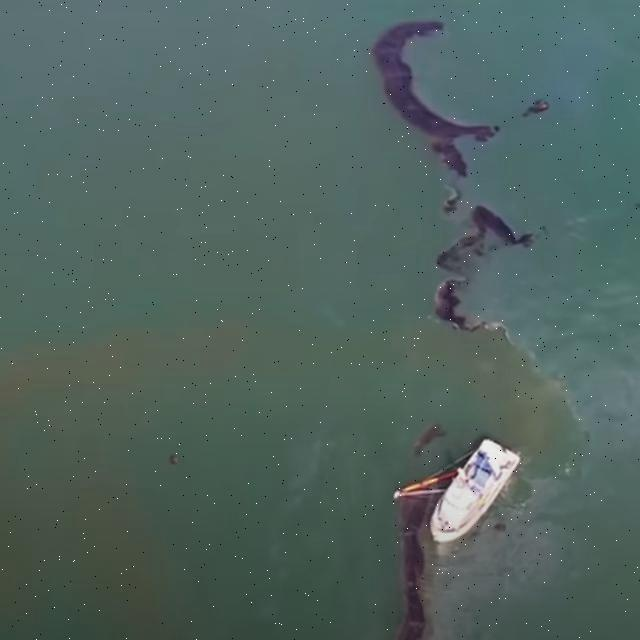oil: (343, 0, 586, 355)
